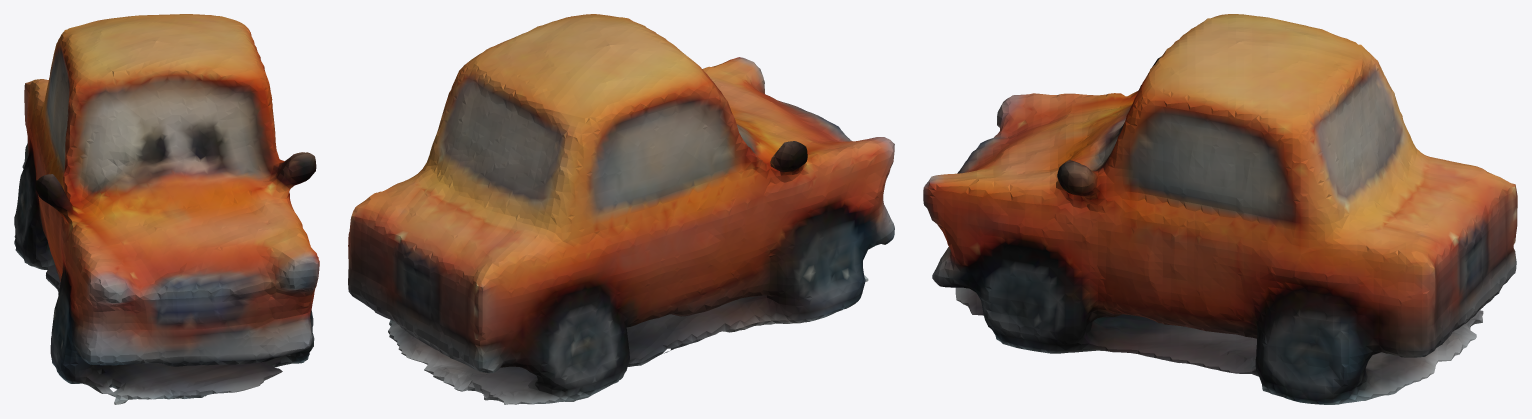
File: ours-conv.glb
The picture shows the model from 3 angles, left to right: view 1: azimuth 30°, elevation 25°; view 2: azimuth 150°, elevation 25°; view 3: azimuth 270°, elevation 25°; orthographic projection. The views are drawn at different scales.
Parts seen in each view (by area): view 1: ours.obj; view 2: ours.obj; view 3: ours.obj.
Part boxes in pixels (bbox=[...]): ours.obj: bbox=[14, 14, 319, 404]; ours.obj: bbox=[348, 14, 894, 404]; ours.obj: bbox=[923, 14, 1517, 404].
Bounding box in the file's own units: 0.8441 × 0.638 × 1.2.
